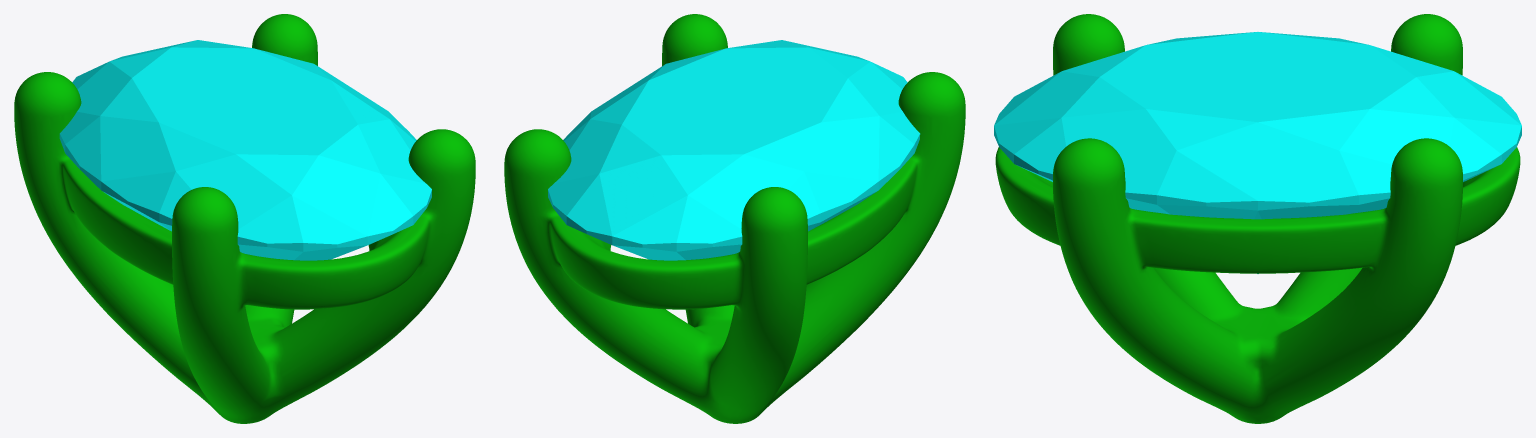
3 views of the same model, side by side, from view 1: azimuth 30°, elevation 25°; view 2: azimuth 150°, elevation 25°; view 3: azimuth 270°, elevation 25° (orthographic). The views are drawn at different scales.
Parts seen in each view (by area): view 1: Metal01, Diamond_Oval; view 2: Metal01, Diamond_Oval; view 3: Metal01, Diamond_Oval.
Boxes of the visible parts, x1,y1,x2,y2 form: Metal01: [14, 14, 475, 423]; Diamond_Oval: [59, 40, 431, 260]; Metal01: [504, 14, 965, 423]; Diamond_Oval: [548, 40, 920, 260]; Metal01: [995, 14, 1520, 423]; Diamond_Oval: [994, 32, 1521, 273].
Bounding box in the file's own units: 5.13 × 5.26 × 7.4.
